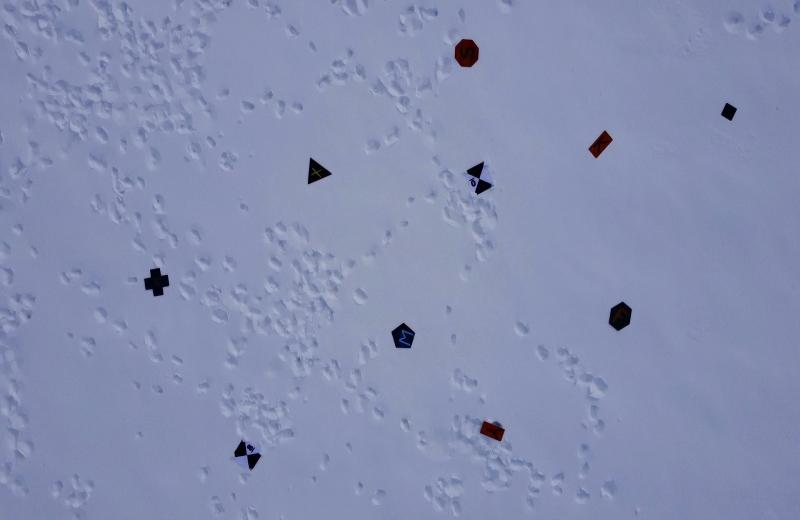Cross: (140, 264, 172, 298)
Hexagon: (605, 297, 636, 334)
Octagon: (453, 38, 480, 74)
Pentagon: (388, 320, 417, 355)
Rectangle: (587, 126, 618, 160), (479, 417, 512, 447)
Square: (716, 100, 740, 125)
Triangle: (303, 153, 335, 186)
